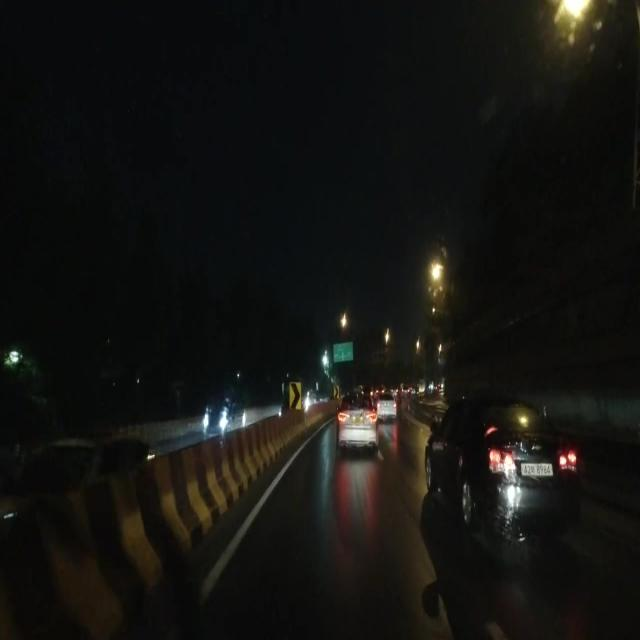Car: (422, 393, 580, 544), (334, 394, 376, 447), (376, 391, 395, 420)
